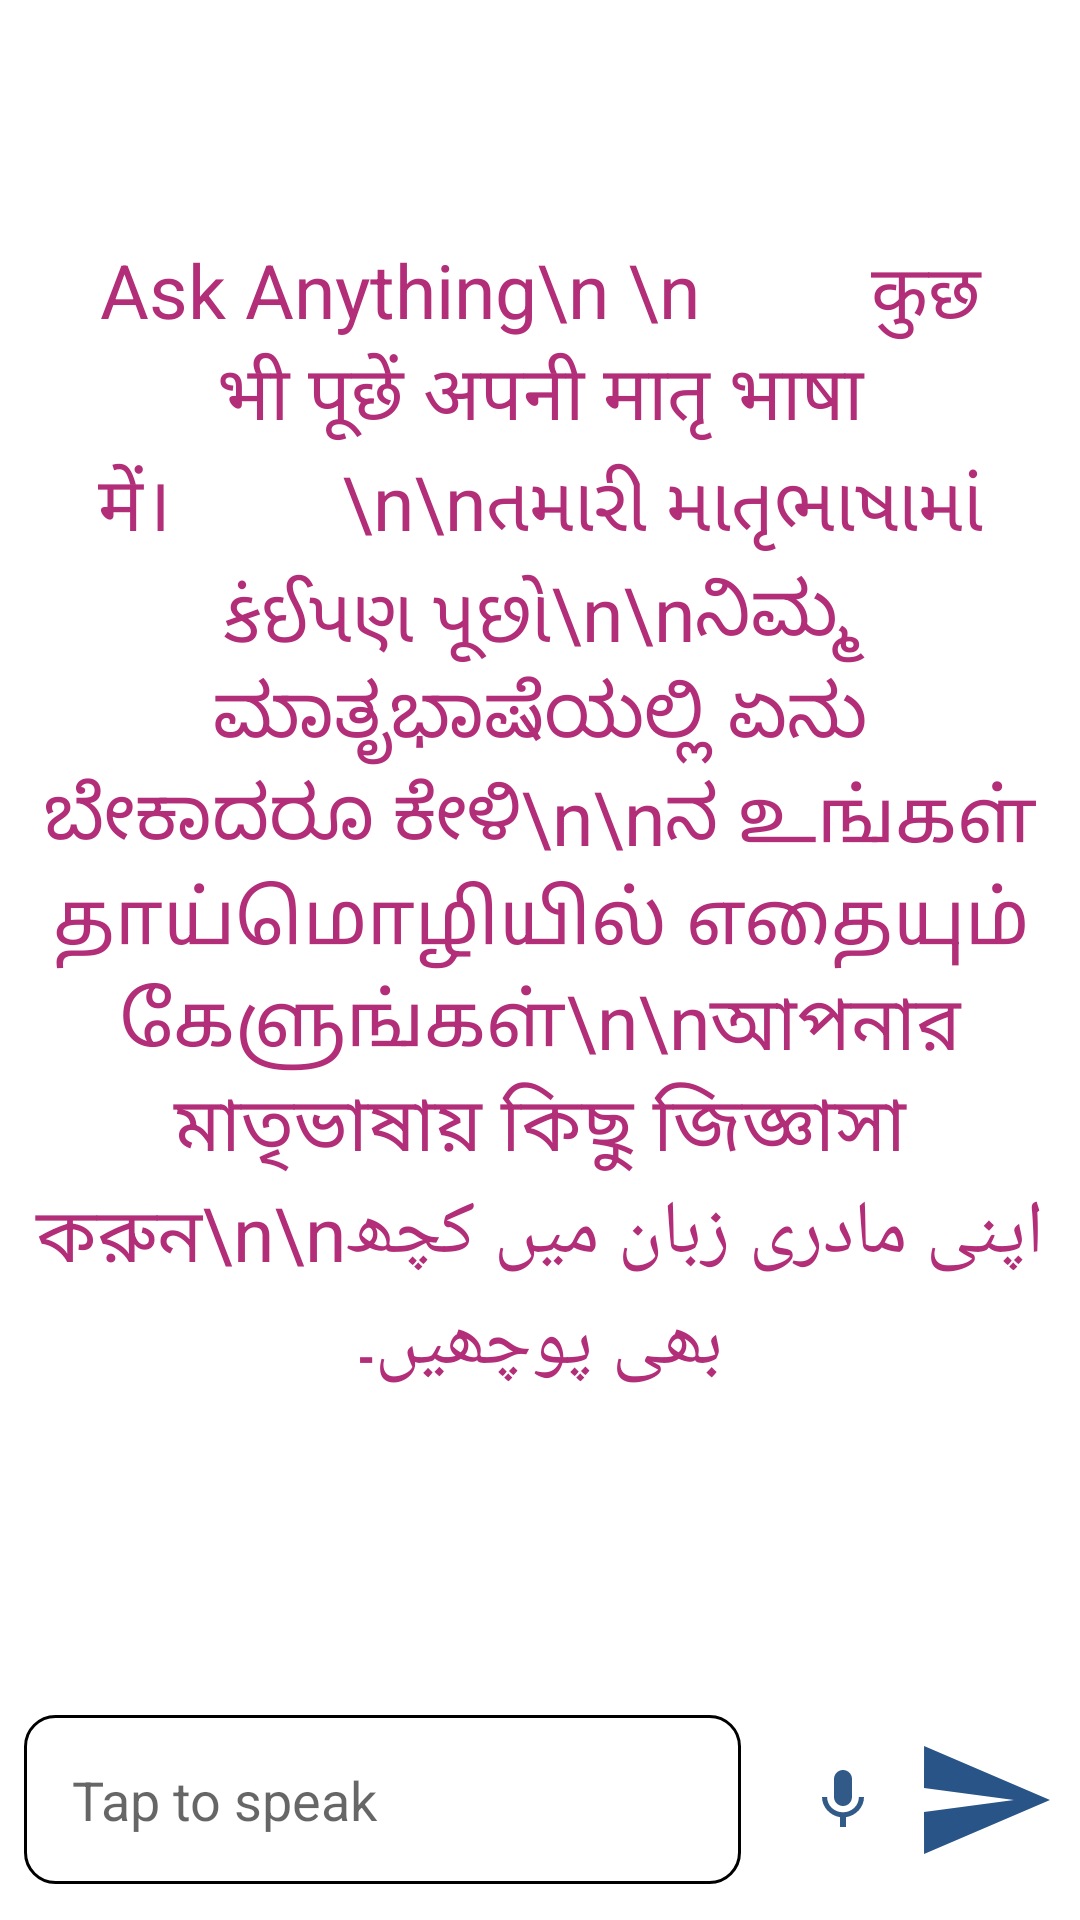

Icons on this 1080 x 1920 Android screen, each with the point to tap as [x,y]:
mic: [843,1798]
send: [987,1800]
